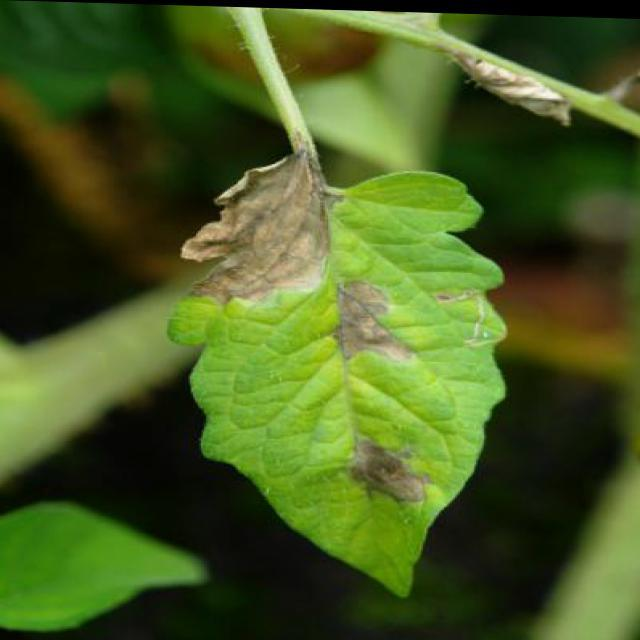Tomato mosaic virus leaf: (160, 147, 520, 609)
